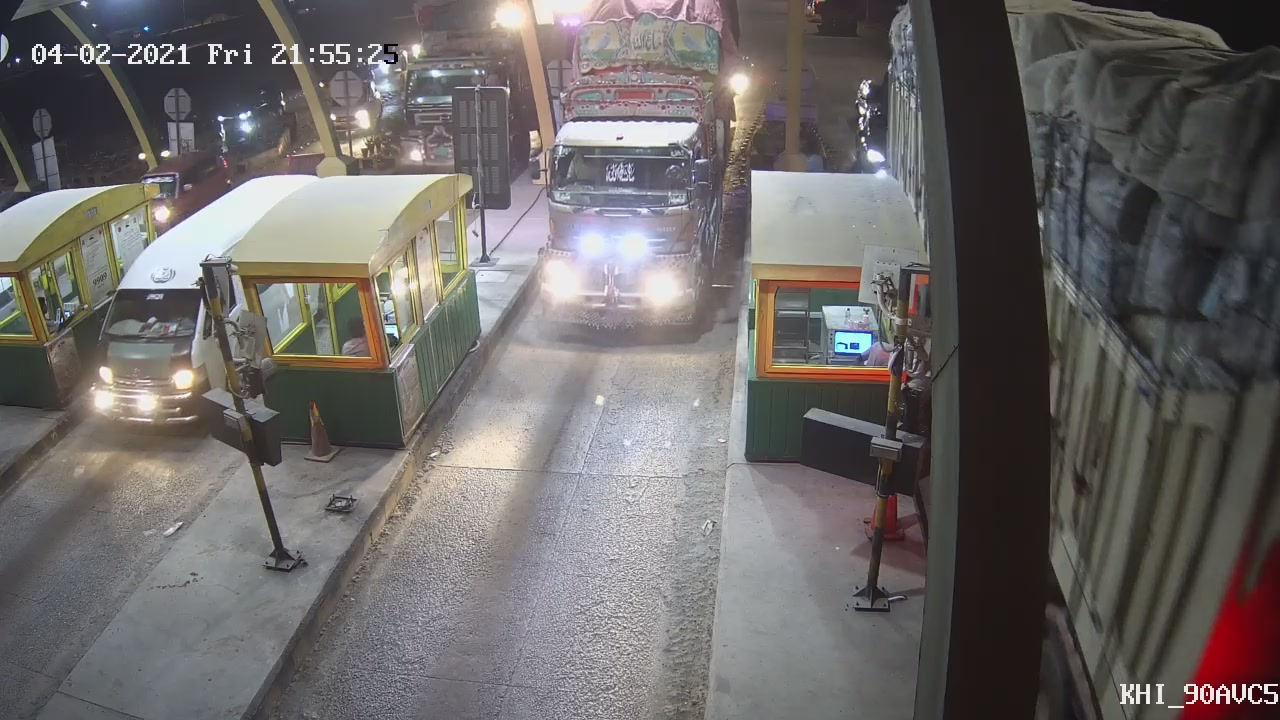F5: (523, 37, 728, 335)
